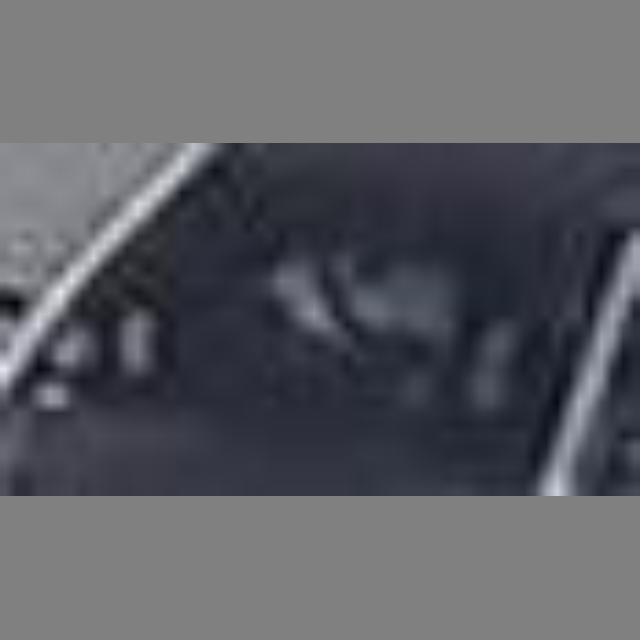pakai: (221, 187, 486, 419)
